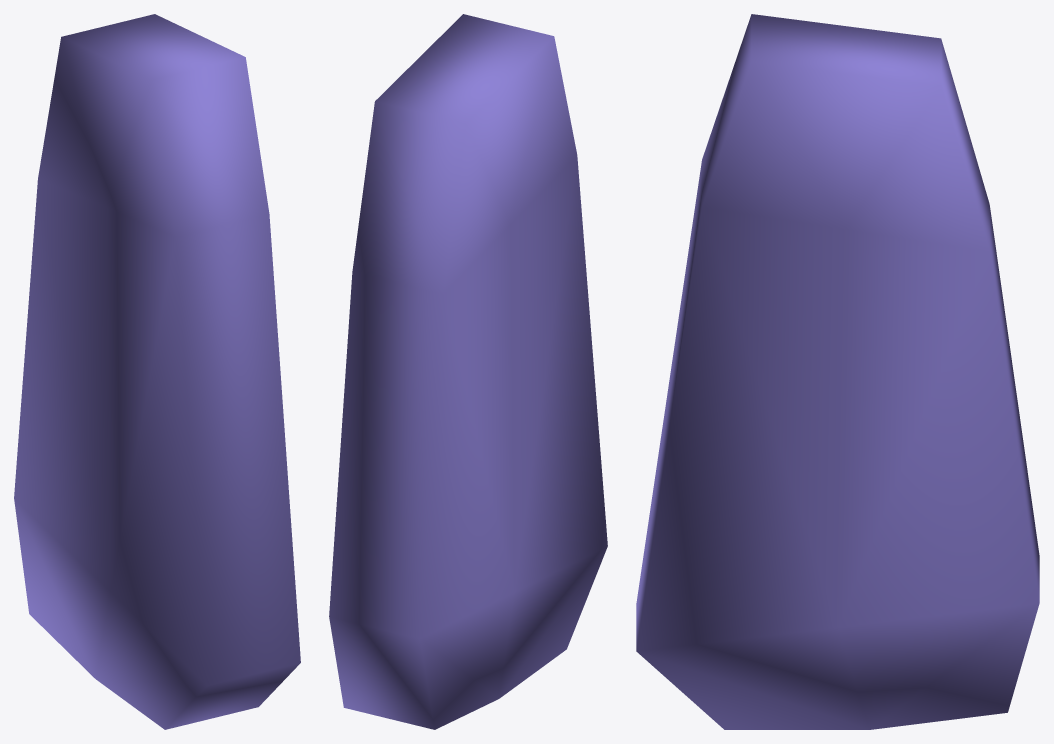
File: Rock_Large_SPR_COL.fbx
3 renders of one model, left to right at view 1: azimuth 30°, elevation 25°; view 2: azimuth 150°, elevation 25°; view 3: azimuth 270°, elevation 25°, orthographic. The views are drawn at different scales.
Visible parts, largest first — view 1: Rock_Large_SPR_COL; view 2: Rock_Large_SPR_COL; view 3: Rock_Large_SPR_COL.
Part boxes in pixels (bbox=[...]): Rock_Large_SPR_COL: bbox=[14, 14, 300, 729]; Rock_Large_SPR_COL: bbox=[329, 14, 607, 729]; Rock_Large_SPR_COL: bbox=[636, 14, 1039, 729].
Size of the model in its own units: 66.62 by 435 by 238.
